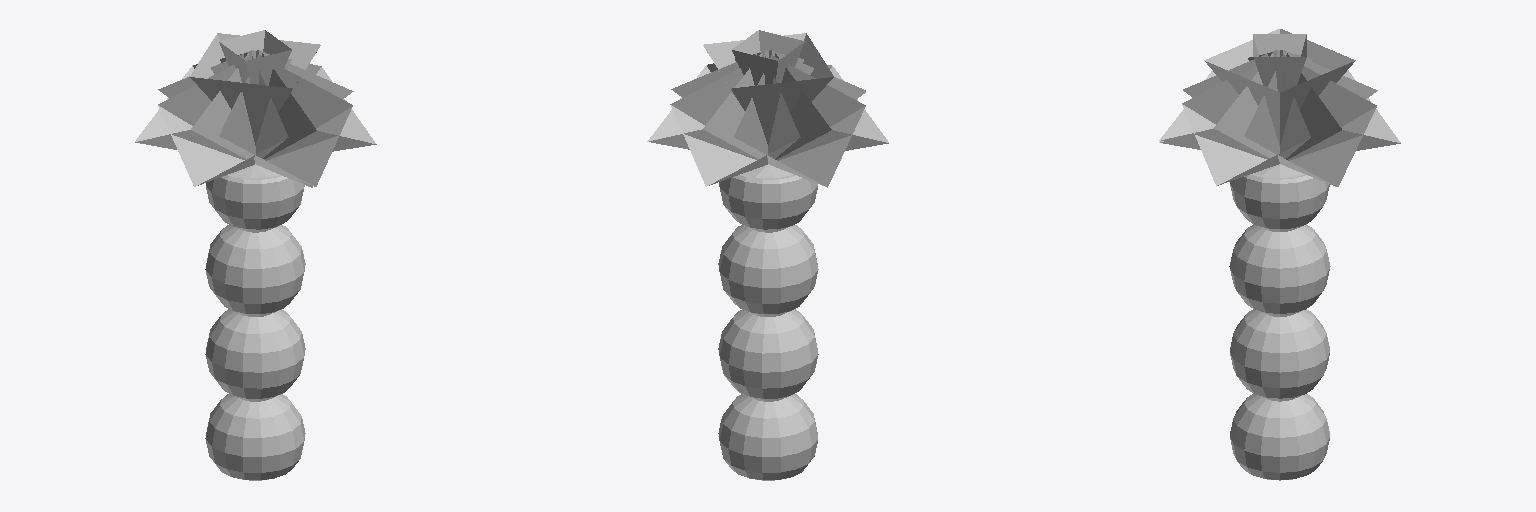
The model's file is sphere_spikes.obj.
3 views of the same model, side by side, from view 1: azimuth 30°, elevation 25°; view 2: azimuth 150°, elevation 25°; view 3: azimuth 270°, elevation 25° (orthographic).
Visible parts, largest first — view 1: Sphere.001; view 2: Sphere.001; view 3: Sphere.001.
Boxes of the visible parts, box(x1,y1,x2,y2) form: Sphere.001: box(135, 30, 376, 480); Sphere.001: box(647, 30, 888, 480); Sphere.001: box(1159, 29, 1400, 480).
Size of the model in its own units: 0.629 by 1.38 by 0.7203.